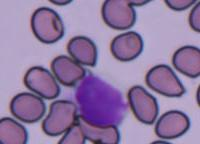M: (73, 71, 130, 127)
